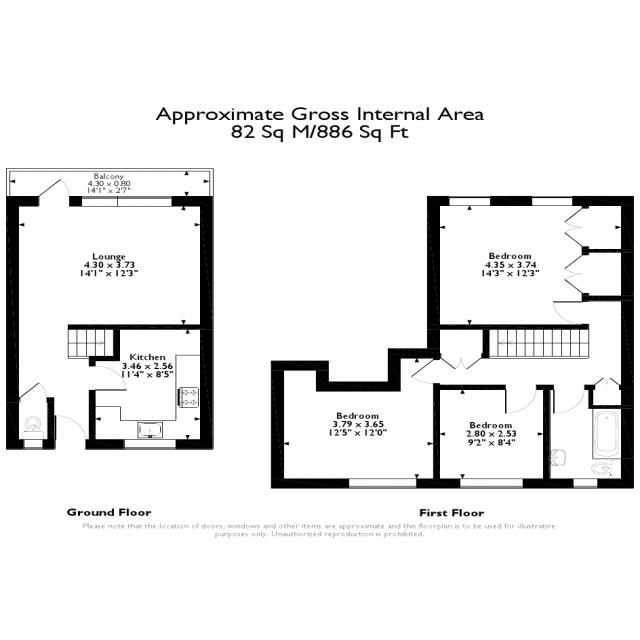DOOR: (54, 414, 88, 450), (88, 365, 128, 392), (504, 384, 538, 415), (553, 384, 587, 414), (38, 178, 70, 207), (552, 301, 589, 325), (409, 359, 440, 385)
DOUBLE DOOR: (562, 207, 589, 247), (563, 254, 589, 294), (440, 353, 482, 371)
ROOM: (426, 195, 634, 330), (270, 348, 440, 489), (88, 324, 214, 450), (433, 384, 551, 489)
WINDOW: (348, 478, 417, 489), (459, 478, 524, 489), (116, 196, 172, 207), (124, 439, 177, 450), (448, 195, 491, 207), (531, 195, 574, 207), (81, 195, 119, 207), (573, 478, 599, 489), (23, 439, 44, 450)
